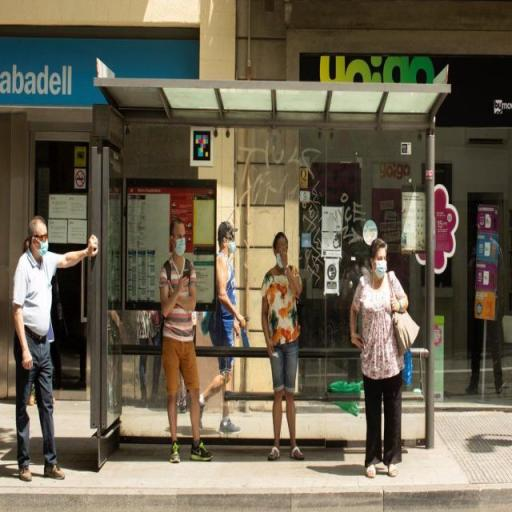person: (14, 215, 99, 483), (350, 237, 411, 478), (159, 220, 213, 465), (198, 218, 250, 436), (261, 233, 306, 462)
